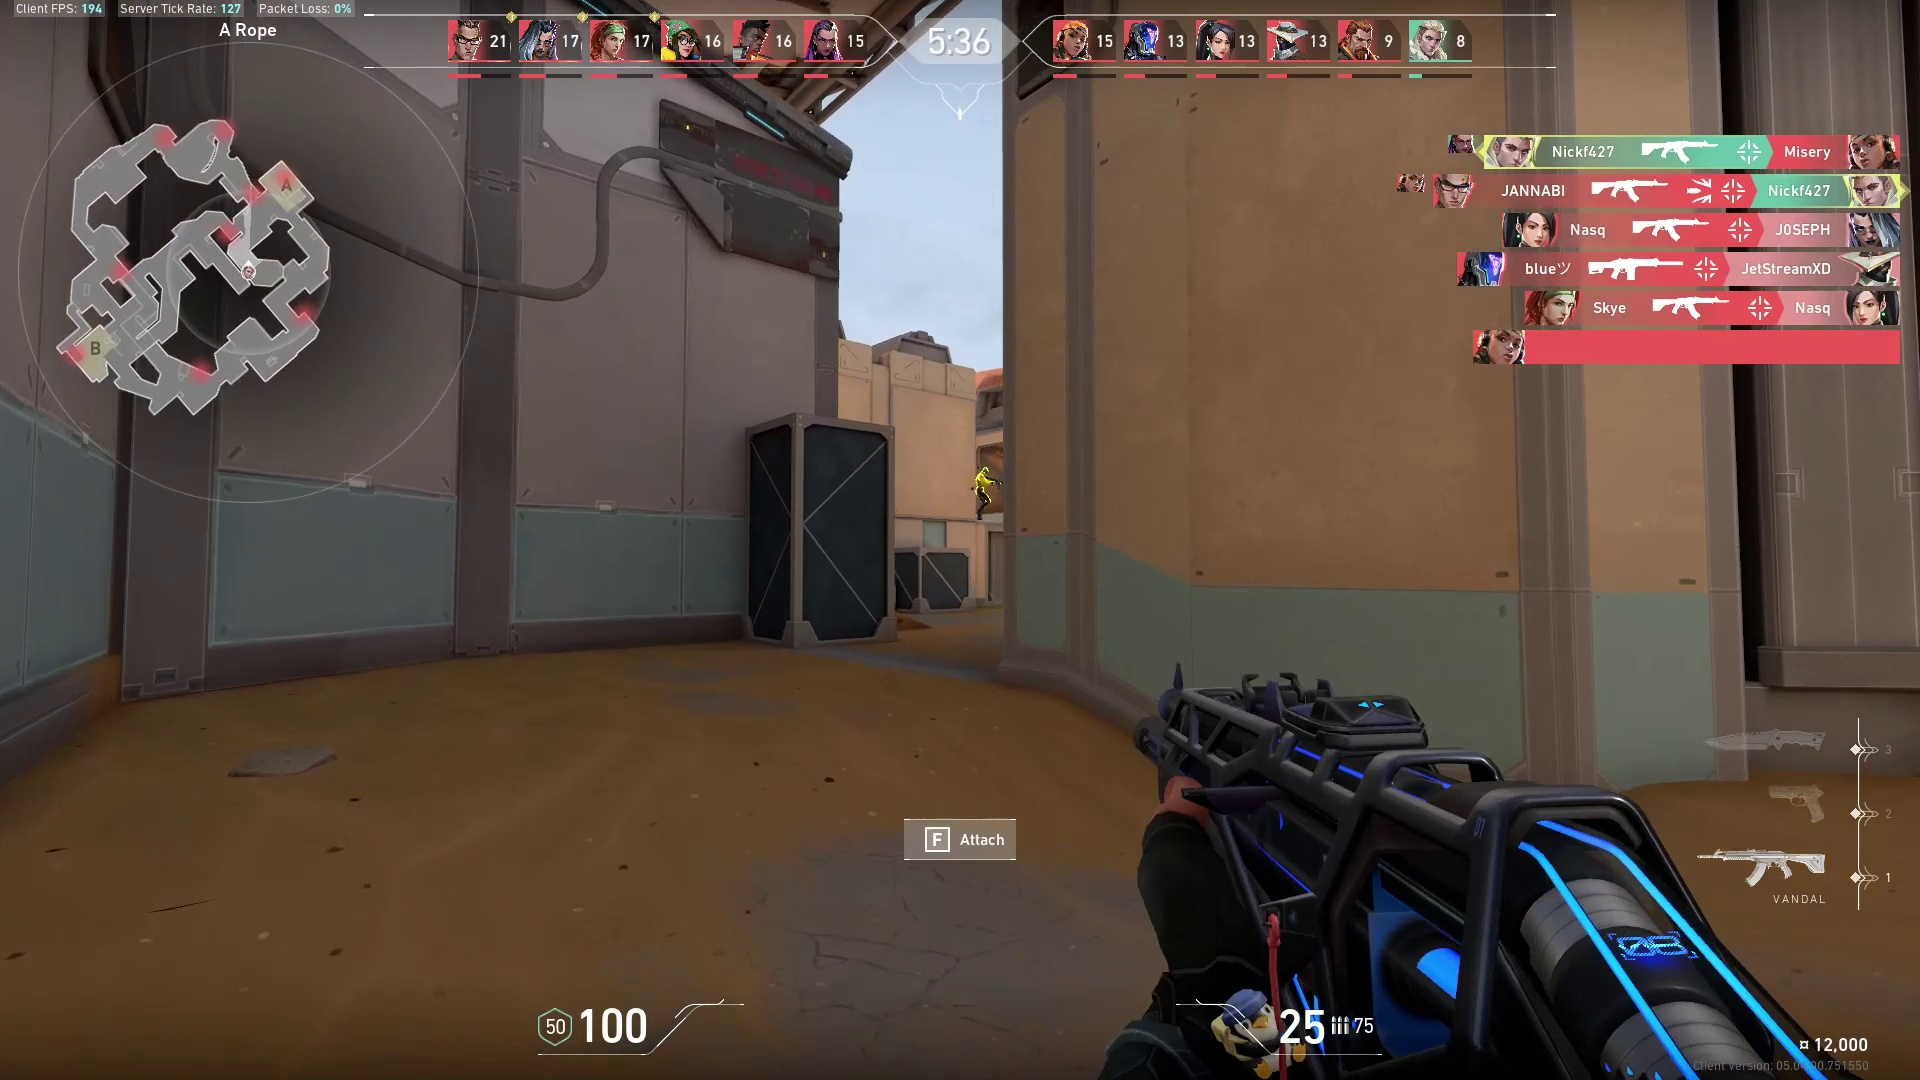enemy_body: (975, 472, 1000, 522)
enemy_head: (981, 463, 992, 475)
